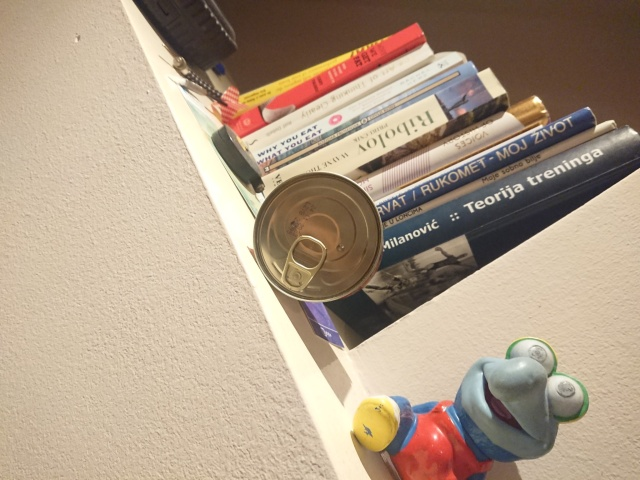Podravka Luncheon Meat 150g: (251, 169, 386, 305)
